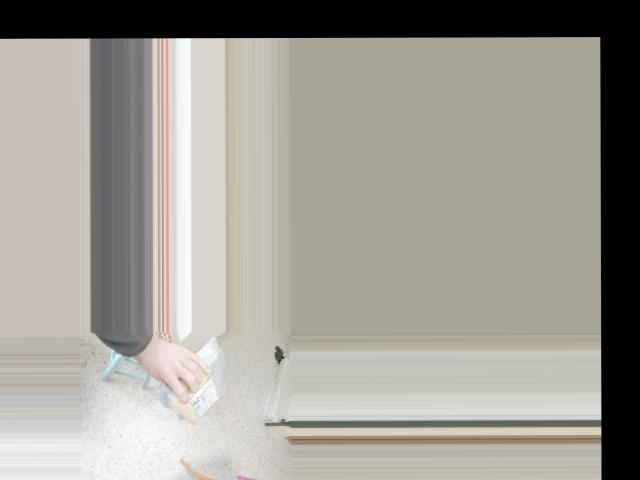cheese: (174, 334, 222, 421)
